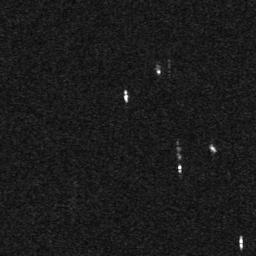ship: (237, 234, 245, 249), (123, 87, 130, 102), (209, 143, 217, 153)
